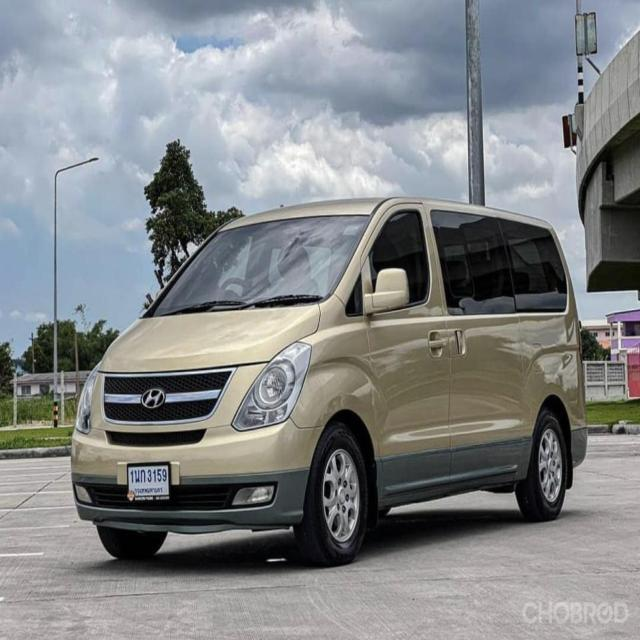license_plate: (125, 461, 174, 503)
